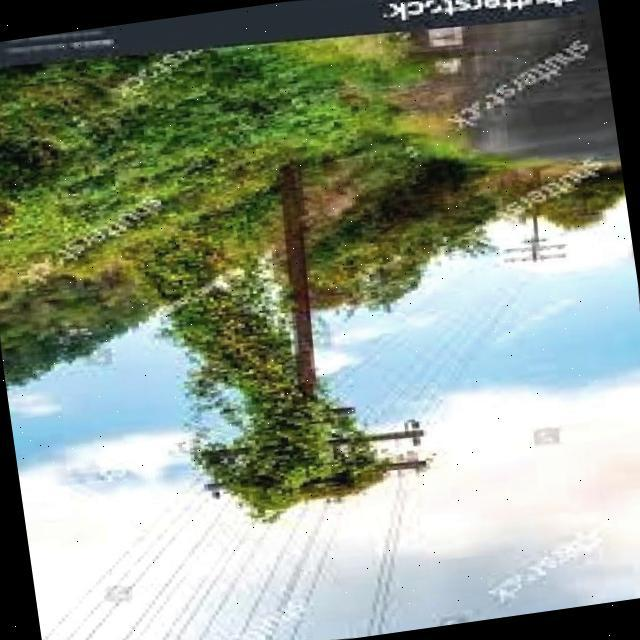critical vegetation: (154, 288, 452, 540)
